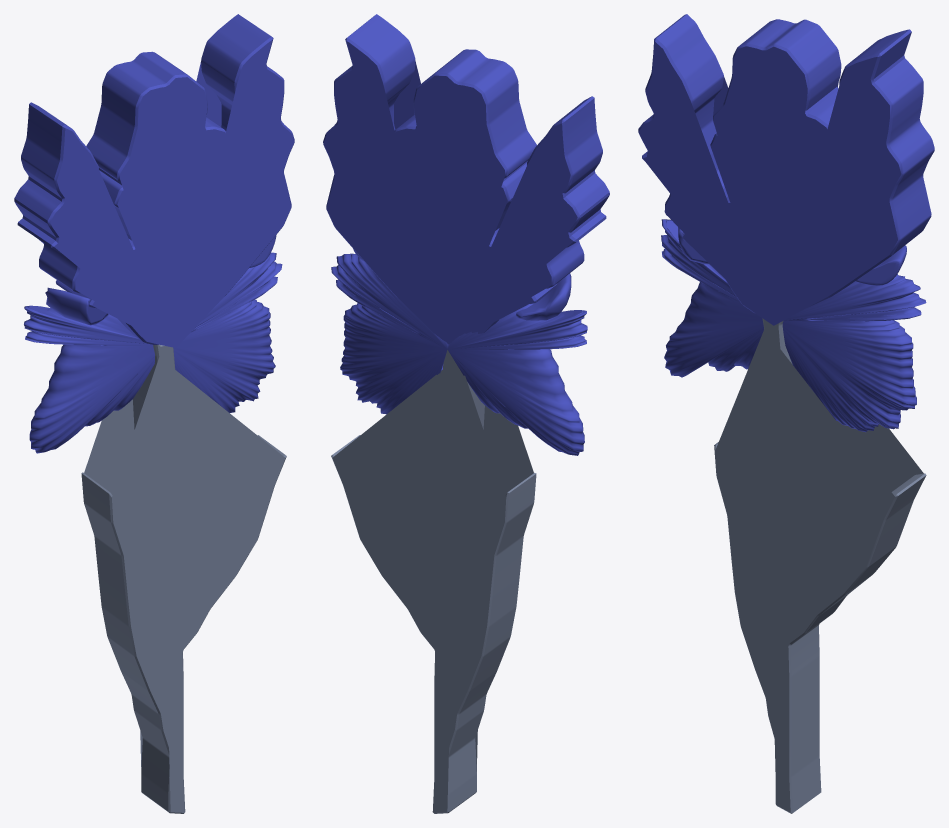
Rendered from fleur_iris.fbx.
3 views of the same model, side by side, from view 1: azimuth 30°, elevation 25°; view 2: azimuth 150°, elevation 25°; view 3: azimuth 330°, elevation 25° (orthographic). The views are drawn at different scales.
Parts seen in each view (by area): view 1: fleur_haut, tige, fleur_bas, petite_petale_droite; view 2: fleur_haut, tige, fleur_bas, petite_petale_droite; view 3: fleur_haut, tige, fleur_bas, petite_petale_gauche.
Part boxes in pixels (bbox=[...]): fleur_haut: bbox=[14, 14, 294, 347]; tige: bbox=[81, 344, 286, 813]; fleur_bas: bbox=[24, 252, 282, 453]; petite_petale_droite: bbox=[45, 287, 108, 325]; fleur_haut: bbox=[323, 14, 609, 344]; tige: bbox=[331, 350, 536, 813]; fleur_bas: bbox=[331, 253, 587, 455]; petite_petale_droite: bbox=[515, 273, 571, 320]; fleur_haut: bbox=[638, 14, 934, 325]; tige: bbox=[714, 318, 926, 813]; fleur_bas: bbox=[661, 219, 926, 432]; petite_petale_gauche: bbox=[855, 245, 906, 285].
Bounding box in the file's own units: 1.55 × 4.33 × 0.4008.
